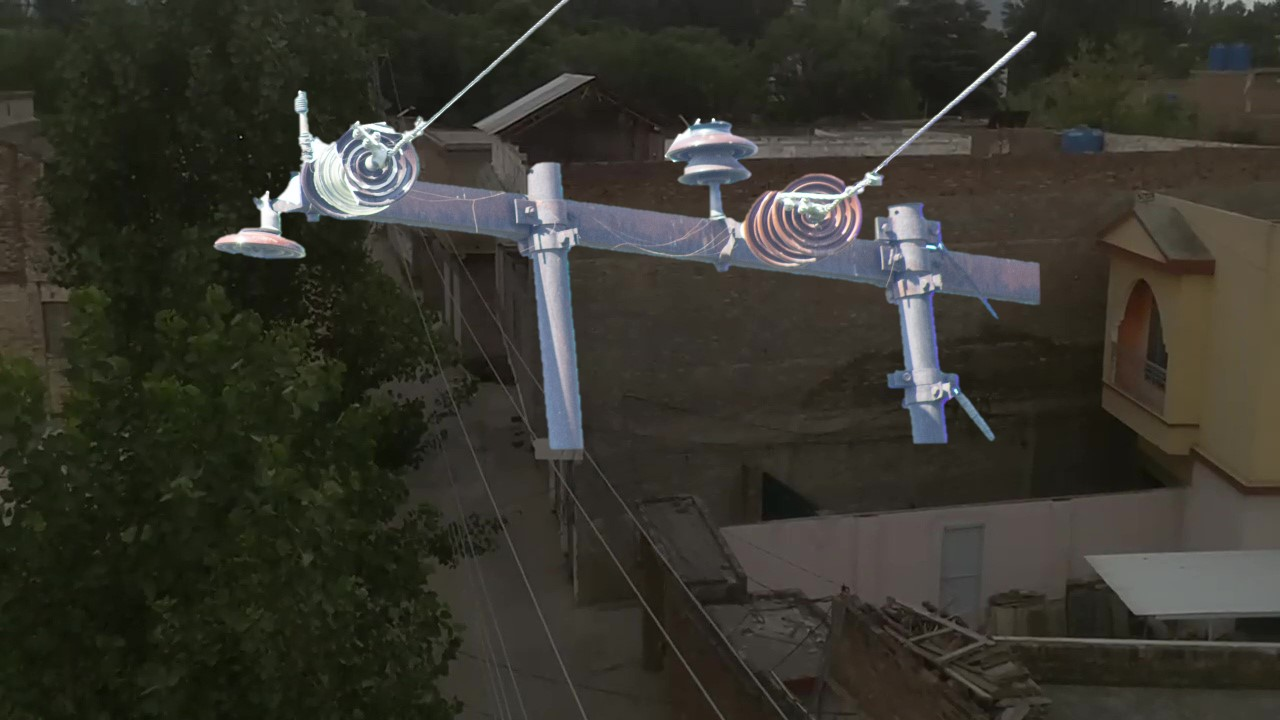defect_disc: (334, 117, 424, 214)
insulator_disc: (767, 167, 867, 257), (205, 204, 312, 271)
